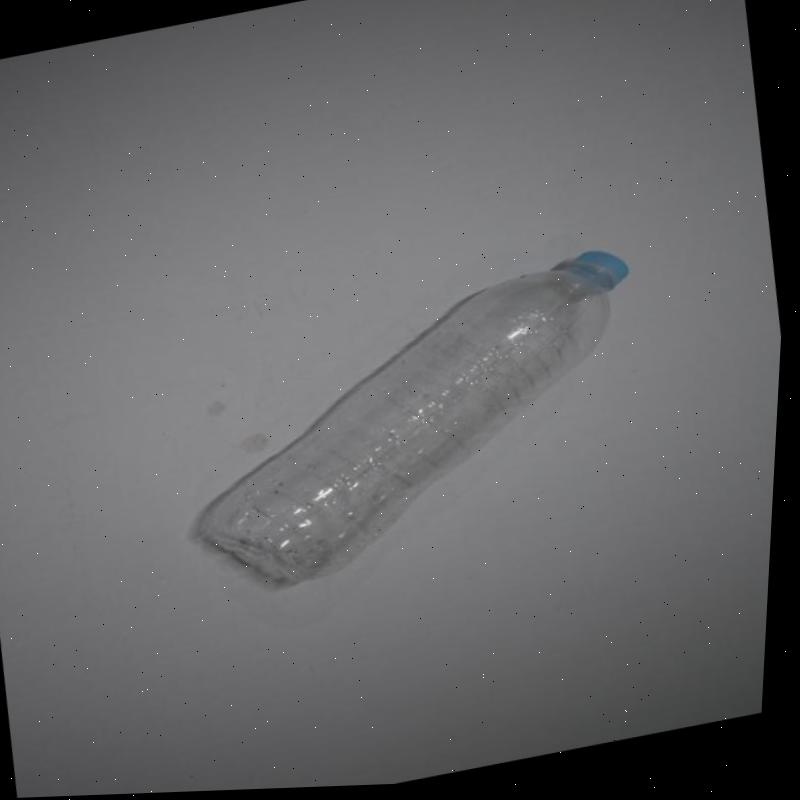botella: (167, 243, 671, 610)
